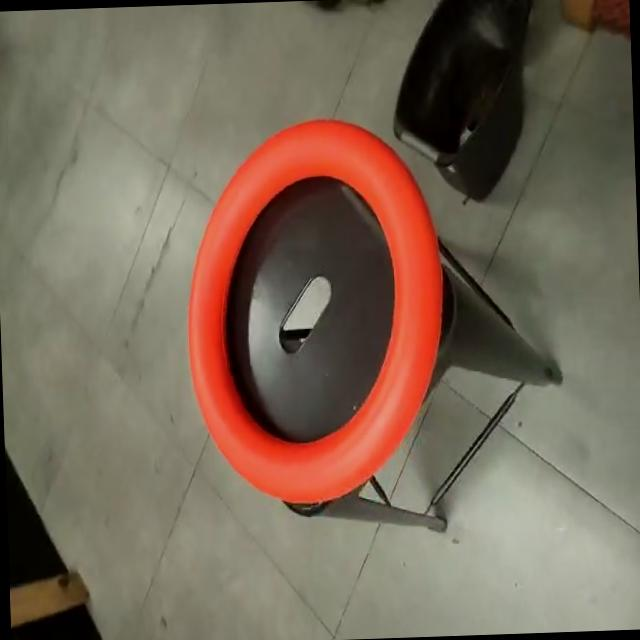note: (180, 116, 454, 502)
